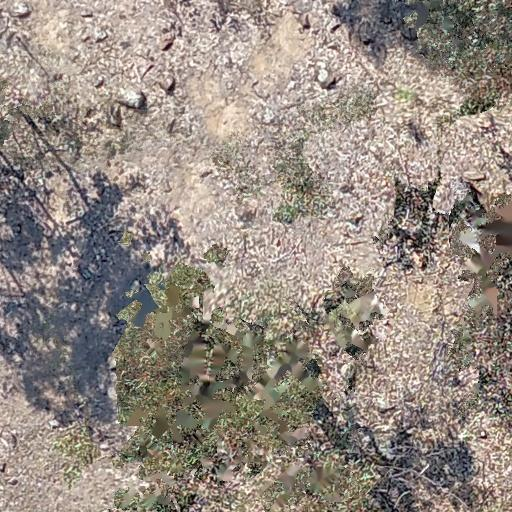stone: (7, 0, 31, 21), (114, 89, 143, 105), (160, 76, 177, 96)
